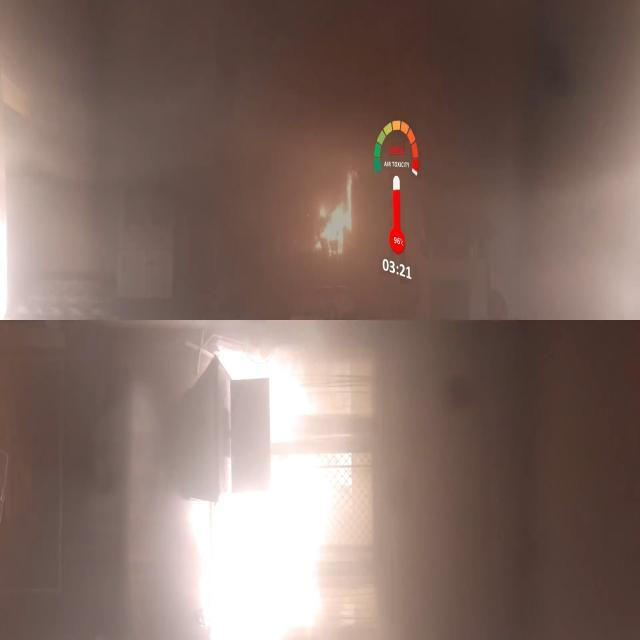Fire: (220, 360, 316, 609), (320, 158, 354, 250)
